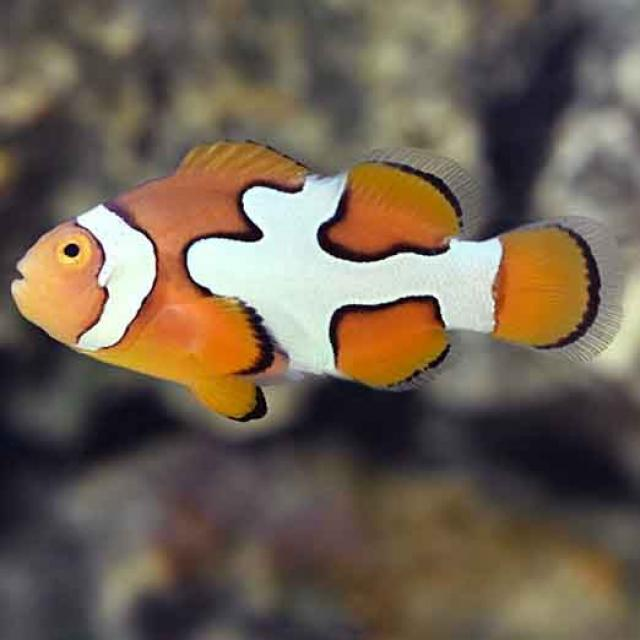ClownFish: (14, 136, 624, 422)
